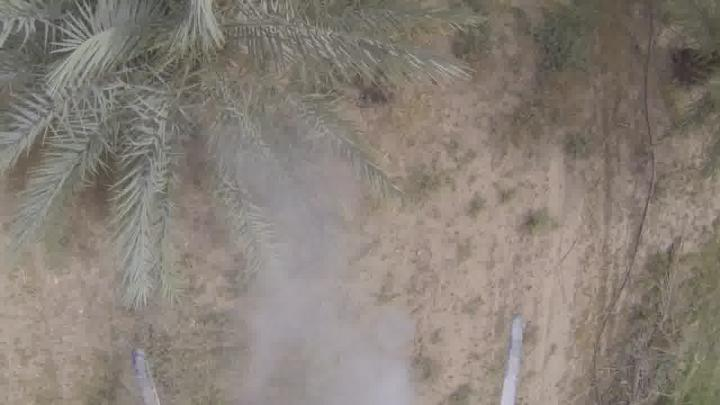Date-Palm-Crown: (22, 1, 304, 186)
